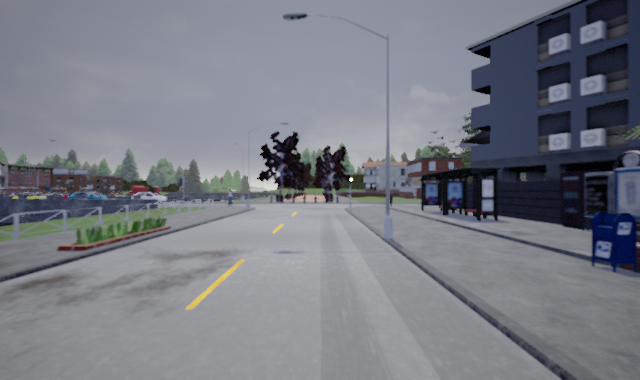pedestrian: (225, 186, 234, 206)
vehicle: (69, 190, 108, 205), (10, 191, 48, 205), (131, 191, 169, 204)
